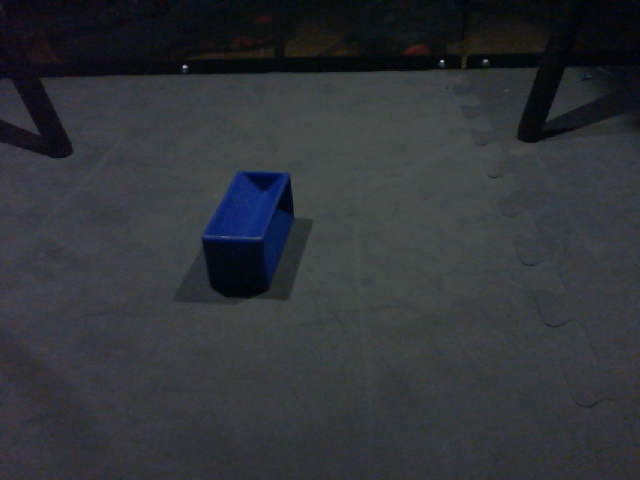BlueSample: (200, 168, 295, 295)
